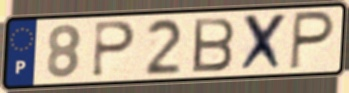2: (144, 17, 186, 78)
8: (46, 22, 84, 80)
B: (191, 16, 238, 75)
P: (287, 9, 337, 72), (89, 20, 138, 80)
X: (237, 11, 290, 75)
